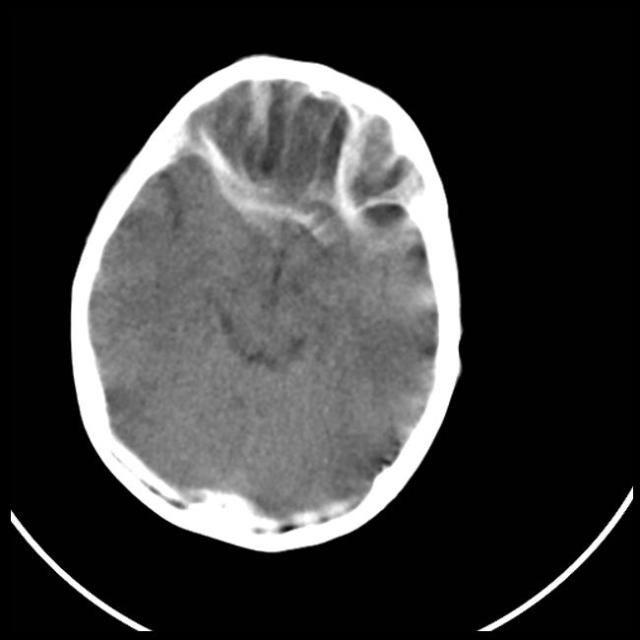lesion: (69, 57, 466, 549)
